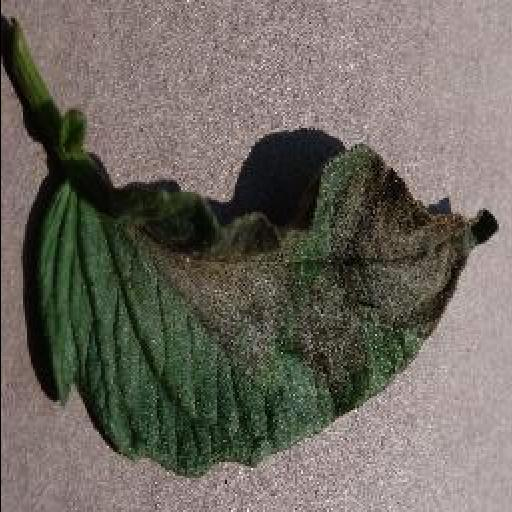disease_tomato: (38, 140, 502, 480)
